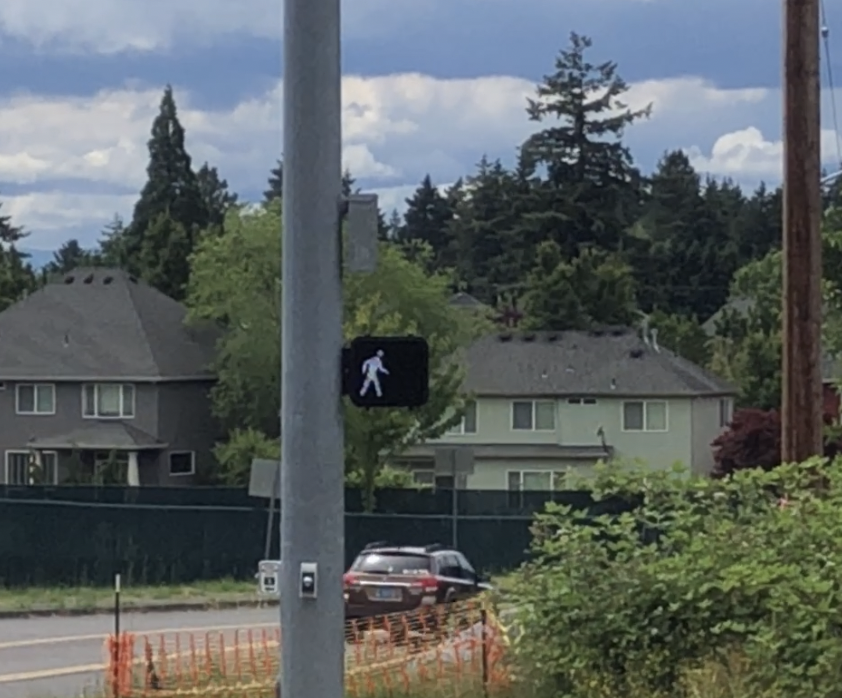pedestrian_walk: (343, 336, 429, 408)
